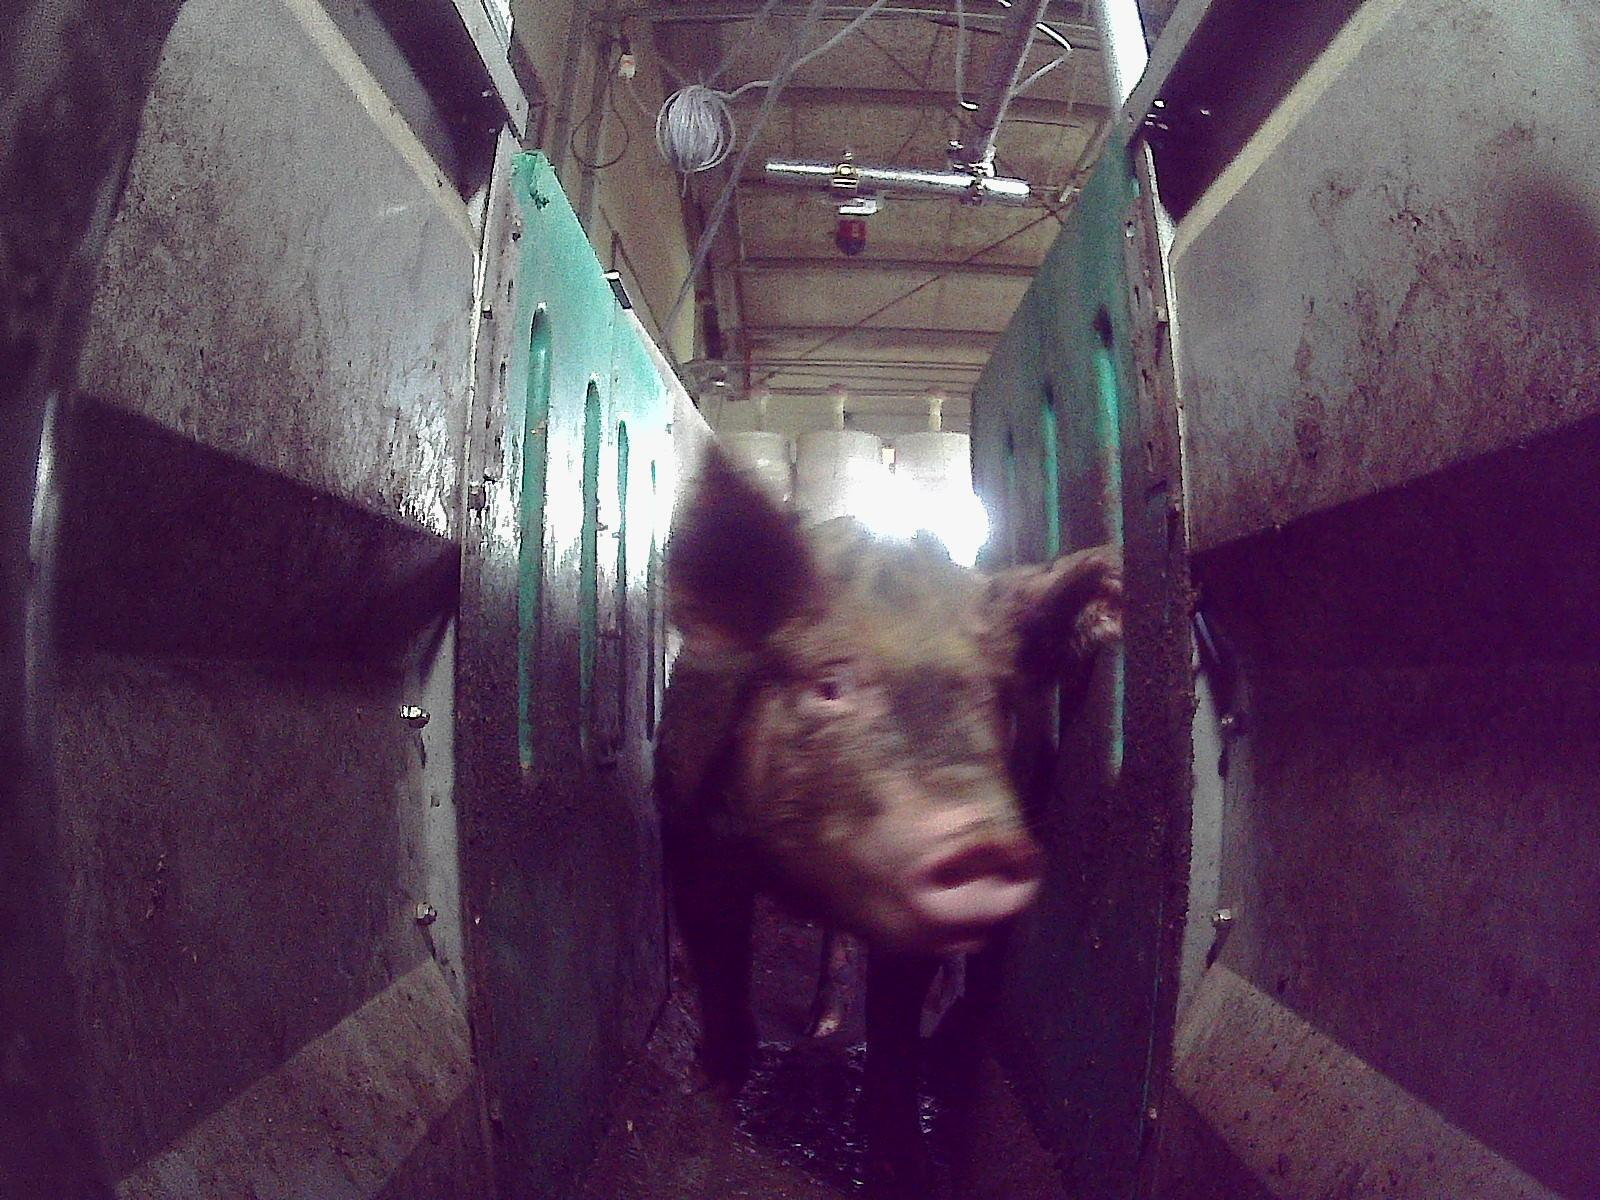Face: (736, 544, 1042, 960)
